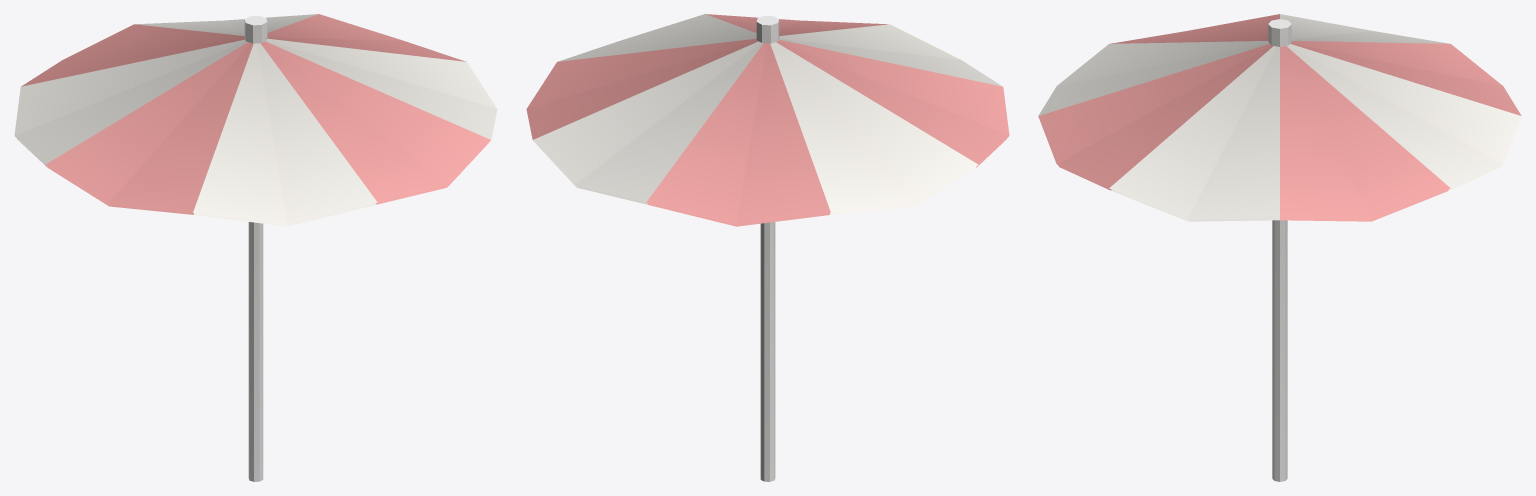
The model's file is VParasol_A.fbx.
3 views of the same model, side by side, from view 1: azimuth 30°, elevation 25°; view 2: azimuth 150°, elevation 25°; view 3: azimuth 270°, elevation 25° (orthographic).
Visible parts, largest first — view 1: VParasol_A; view 2: VParasol_A; view 3: VParasol_A.
Boxes of the visible parts, x1=… form: VParasol_A: x1=14, y1=14, x2=497, y2=481; VParasol_A: x1=526, y1=14, x2=1009, y2=481; VParasol_A: x1=1038, y1=14, x2=1521, y2=481.
Size of the model in its own units: 2.9 by 3.01 by 2.9.
